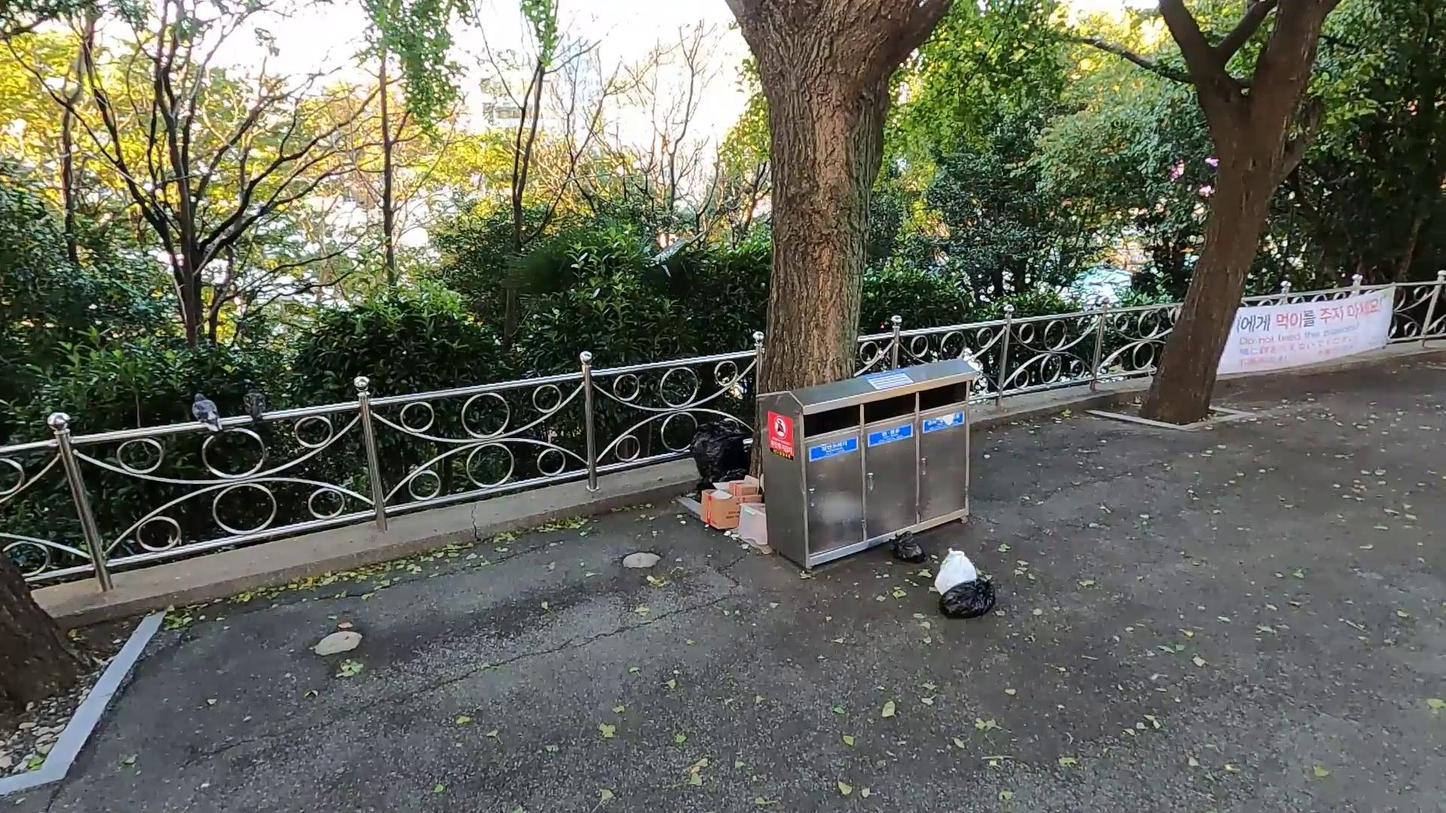trash: (693, 421, 749, 504), (692, 482, 760, 537), (938, 573, 998, 621), (934, 546, 980, 605), (691, 466, 745, 507), (733, 497, 772, 549), (719, 470, 761, 499), (895, 533, 928, 563)
